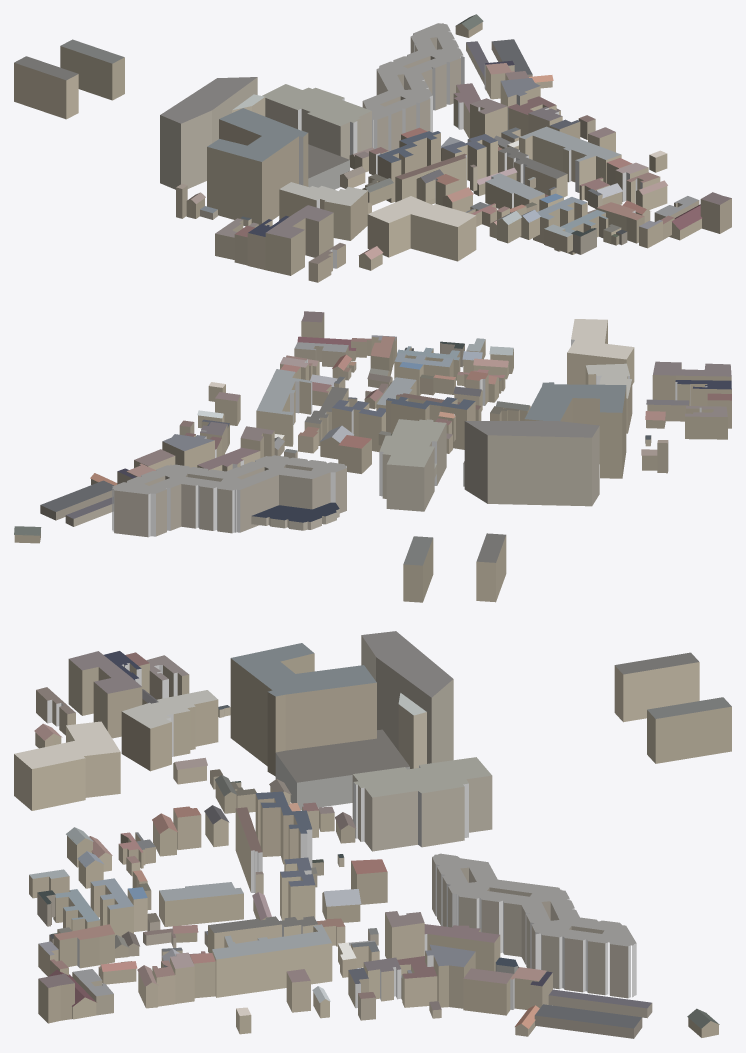
3 views of the same model, one above another, from view 1: azimuth 30°, elevation 25°; view 2: azimuth 150°, elevation 25°; view 3: azimuth 270°, elevation 25° (orthographic). The views are drawn at different scales.
Parts seen in each view (by area): view 1: tuile; view 2: tuile; view 3: tuile.
Part boxes in pixels (box(x1,y1,x2,y2)): tuile: box(14, 14, 731, 282); tuile: box(14, 311, 731, 602); tuile: box(14, 631, 731, 1038).
Bounding box in the file's own units: 263 × 59.2 × 273.
